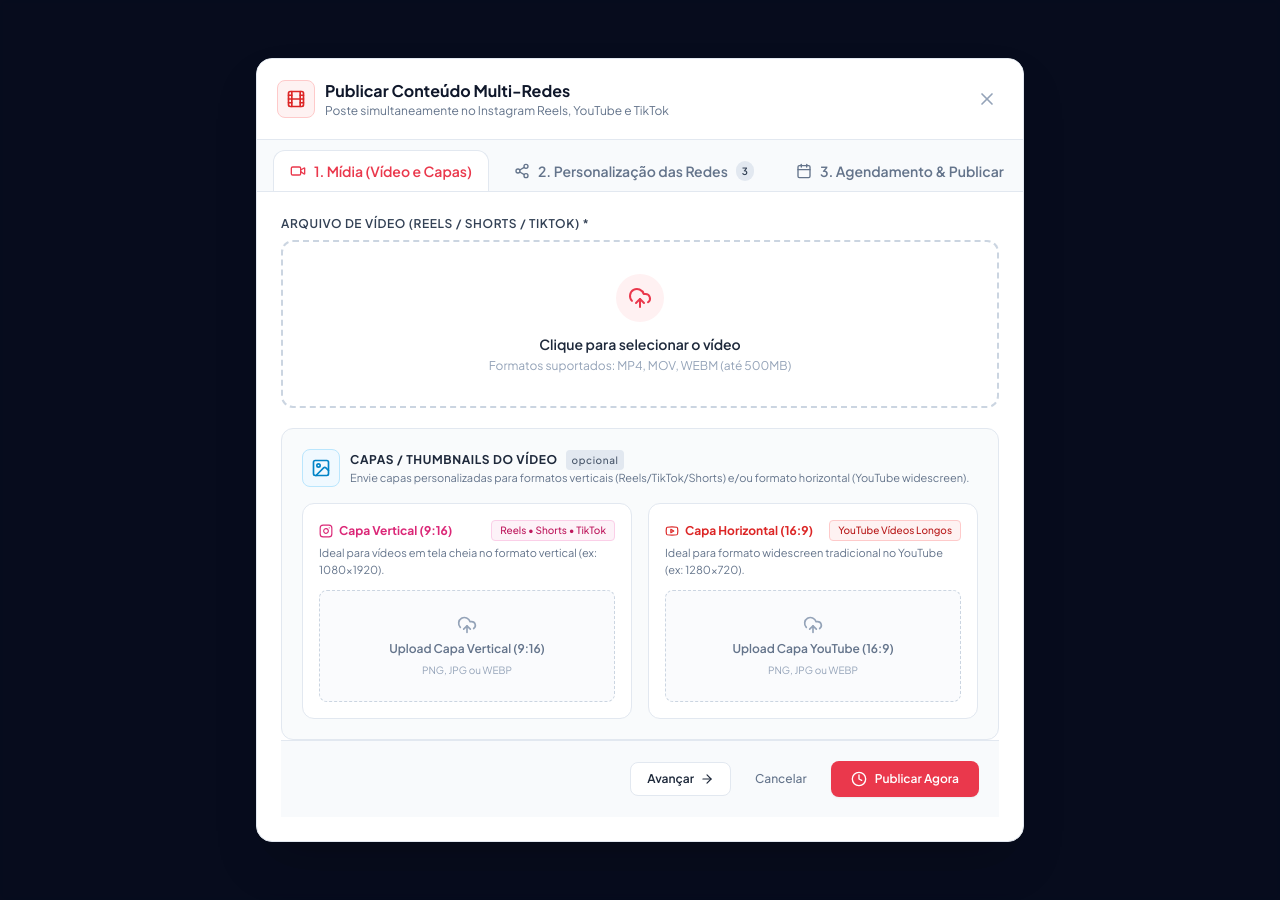
Test: VideoUploadModal Component › displays footer error message when validation fails
The image size is (1280, 900).
# Click submit without file
What coordinates should you click on to do the following:
click the button with test id "submit-schedule-btn"
I would click on:
 (905, 779)
Its box is x1=831 y1=761 x2=979 y2=797.
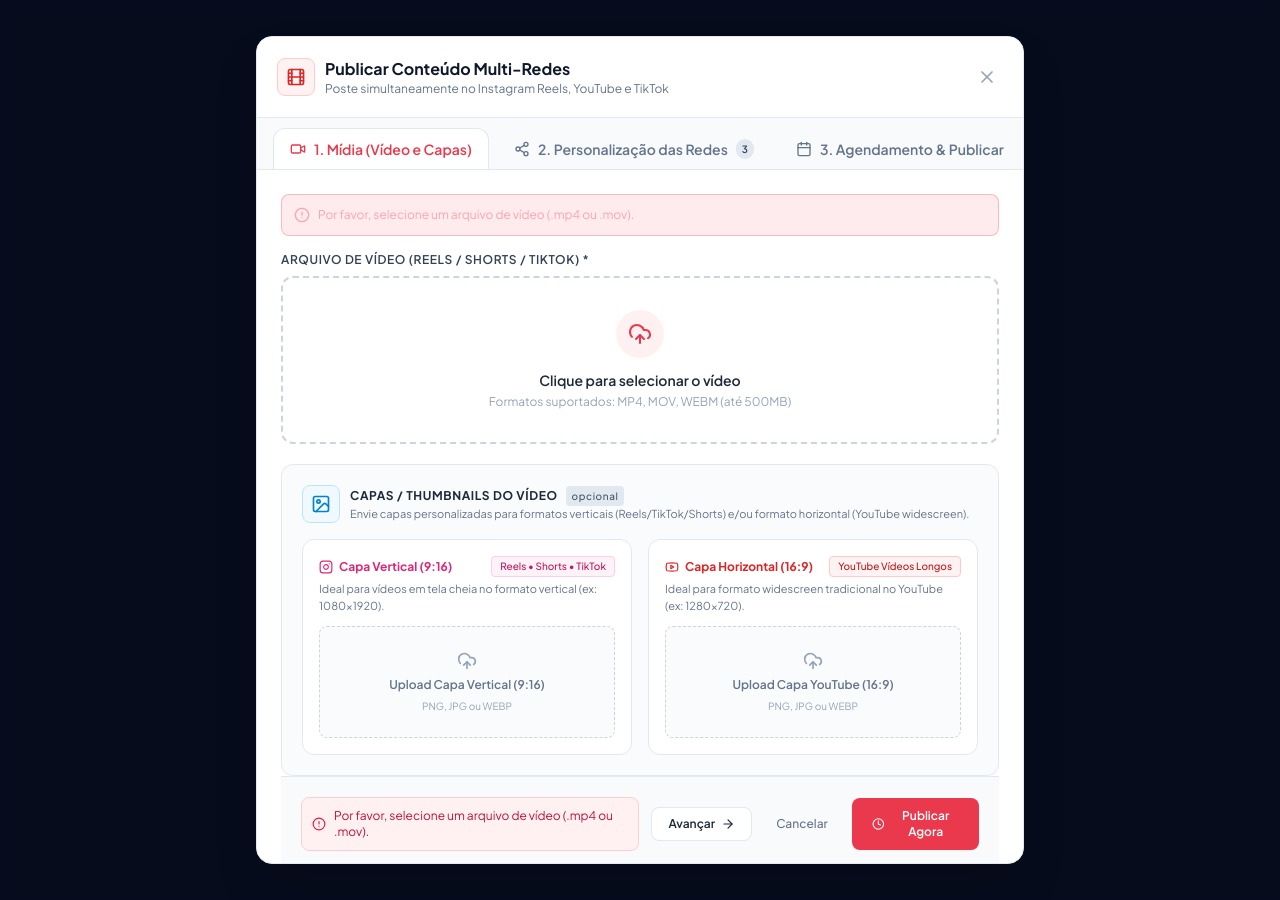
expect the element with test id "footer-error-message" is shown: met, box x1=301 y1=797 x2=639 y2=851
expect the element with test id "footer-error-message" shows "selecione um arquivo de vídeo": met, box x1=334 y1=808 x2=613 y2=839
